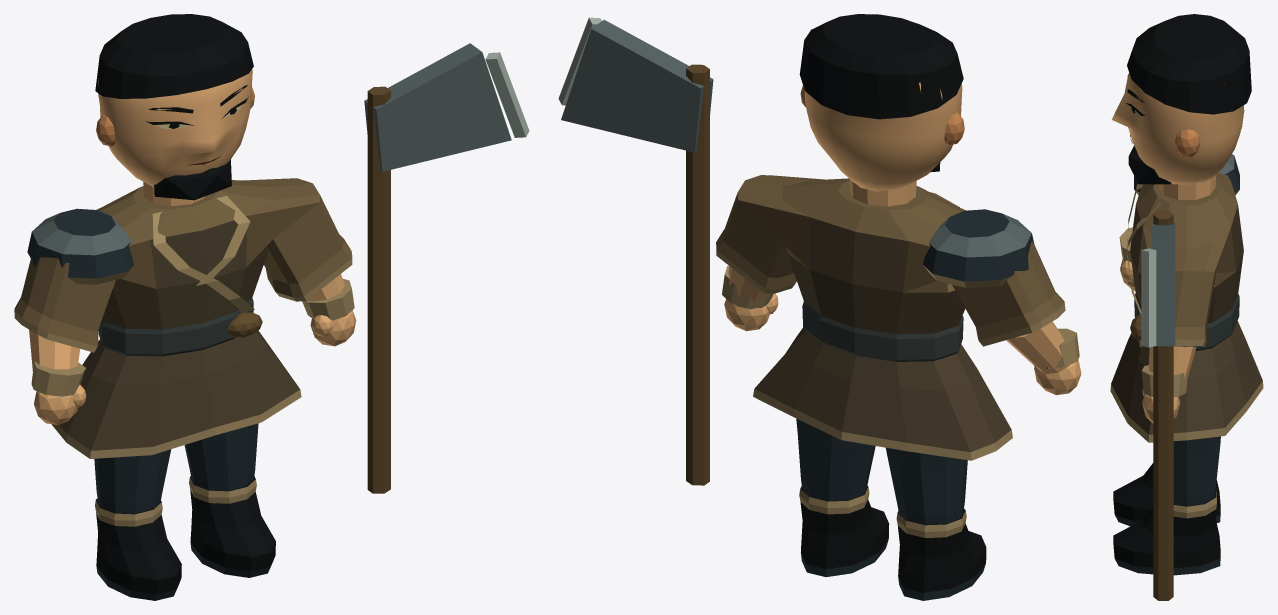
The model's file is Chongshan.fbx.
3 renders of one model, left to right at view 1: azimuth 30°, elevation 25°; view 2: azimuth 150°, elevation 25°; view 3: azimuth 270°, elevation 25°, orthographic. The views are drawn at different scales.
Parts seen in each view (by area): view 1: Chongshan_Sample; view 2: Chongshan_Sample; view 3: Chongshan_Sample.
Boxes of the visible parts, x1,y1,x2,y2 form: Chongshan_Sample: (14, 14, 529, 600); Chongshan_Sample: (558, 14, 1081, 600); Chongshan_Sample: (1110, 14, 1263, 600).
Bounding box in the file's own units: 207 × 208 × 57.4.
Materials: 1 (1 with a texture image).
